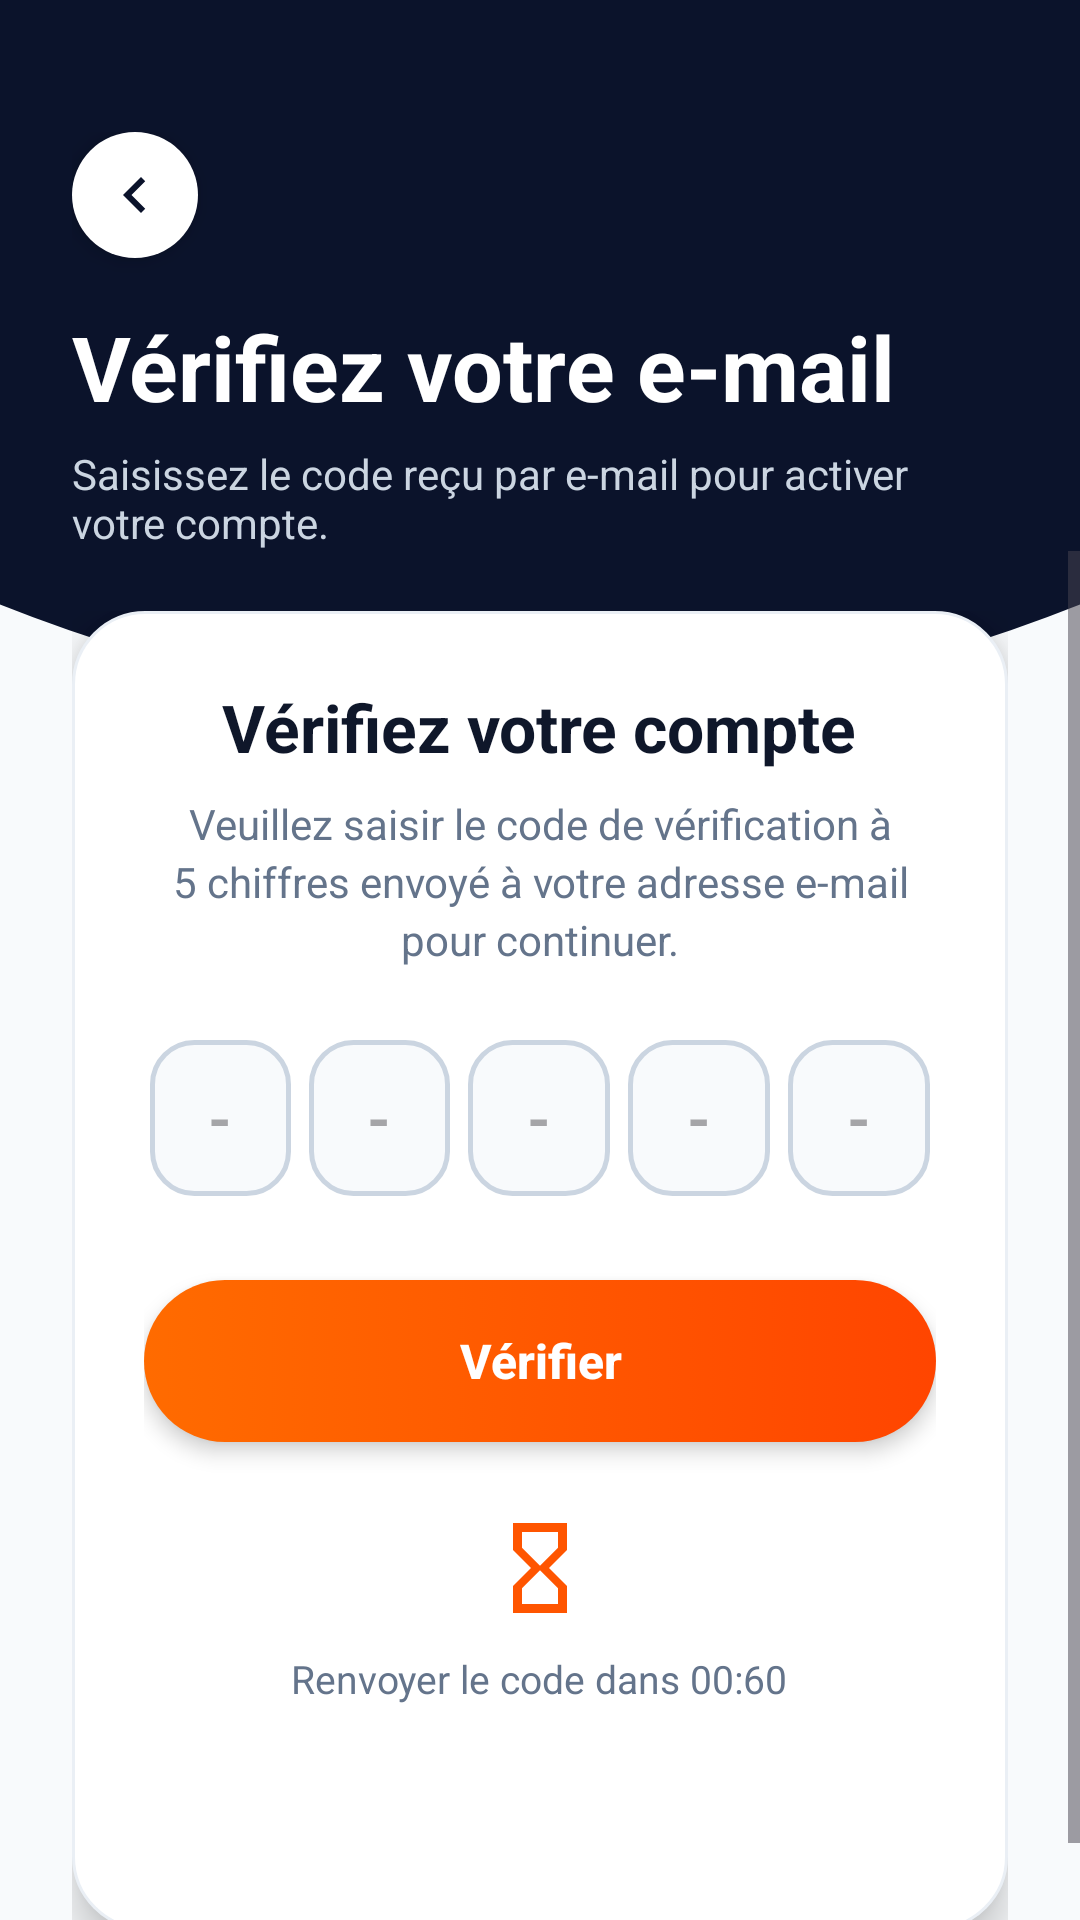

Screen size 1080×1920. Icon name, then its box in pixels as [left=x1, top=y1, right=x2, bottom=y2]:
arrow back: [left=72, top=132, right=198, bottom=258]
hourglass: [left=513, top=1523, right=567, bottom=1613]
